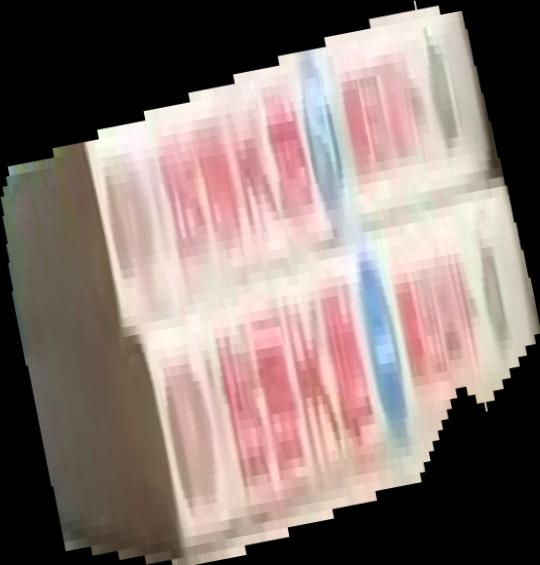flat: (1, 1, 540, 565)
